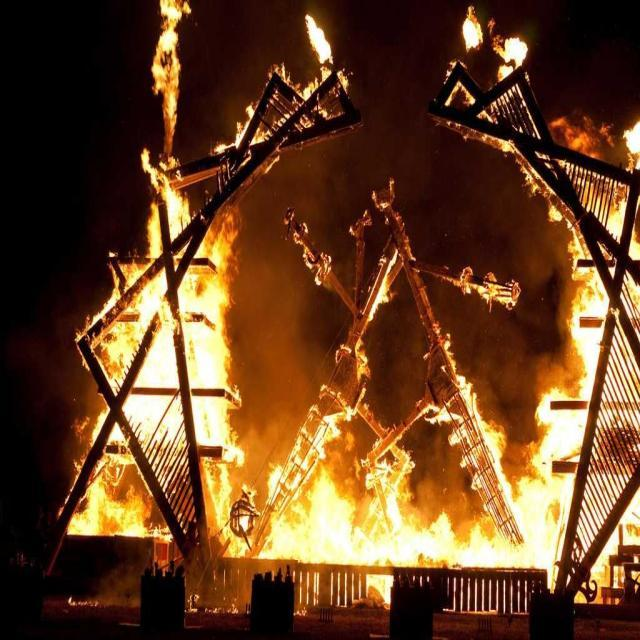Fire: (190, 243, 230, 425), (353, 525, 494, 560), (280, 498, 346, 556), (520, 480, 569, 551), (553, 332, 597, 400), (146, 326, 176, 397)
